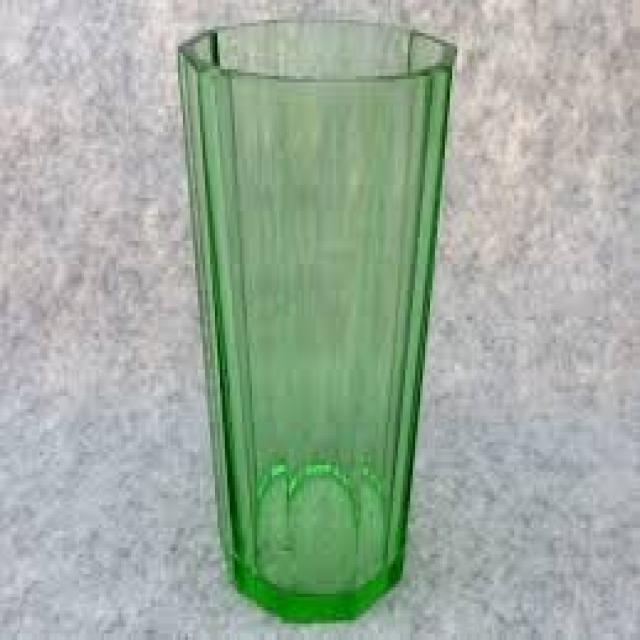Glass-Non-Biodegradable but Recyclable-: (177, 48, 449, 627)
